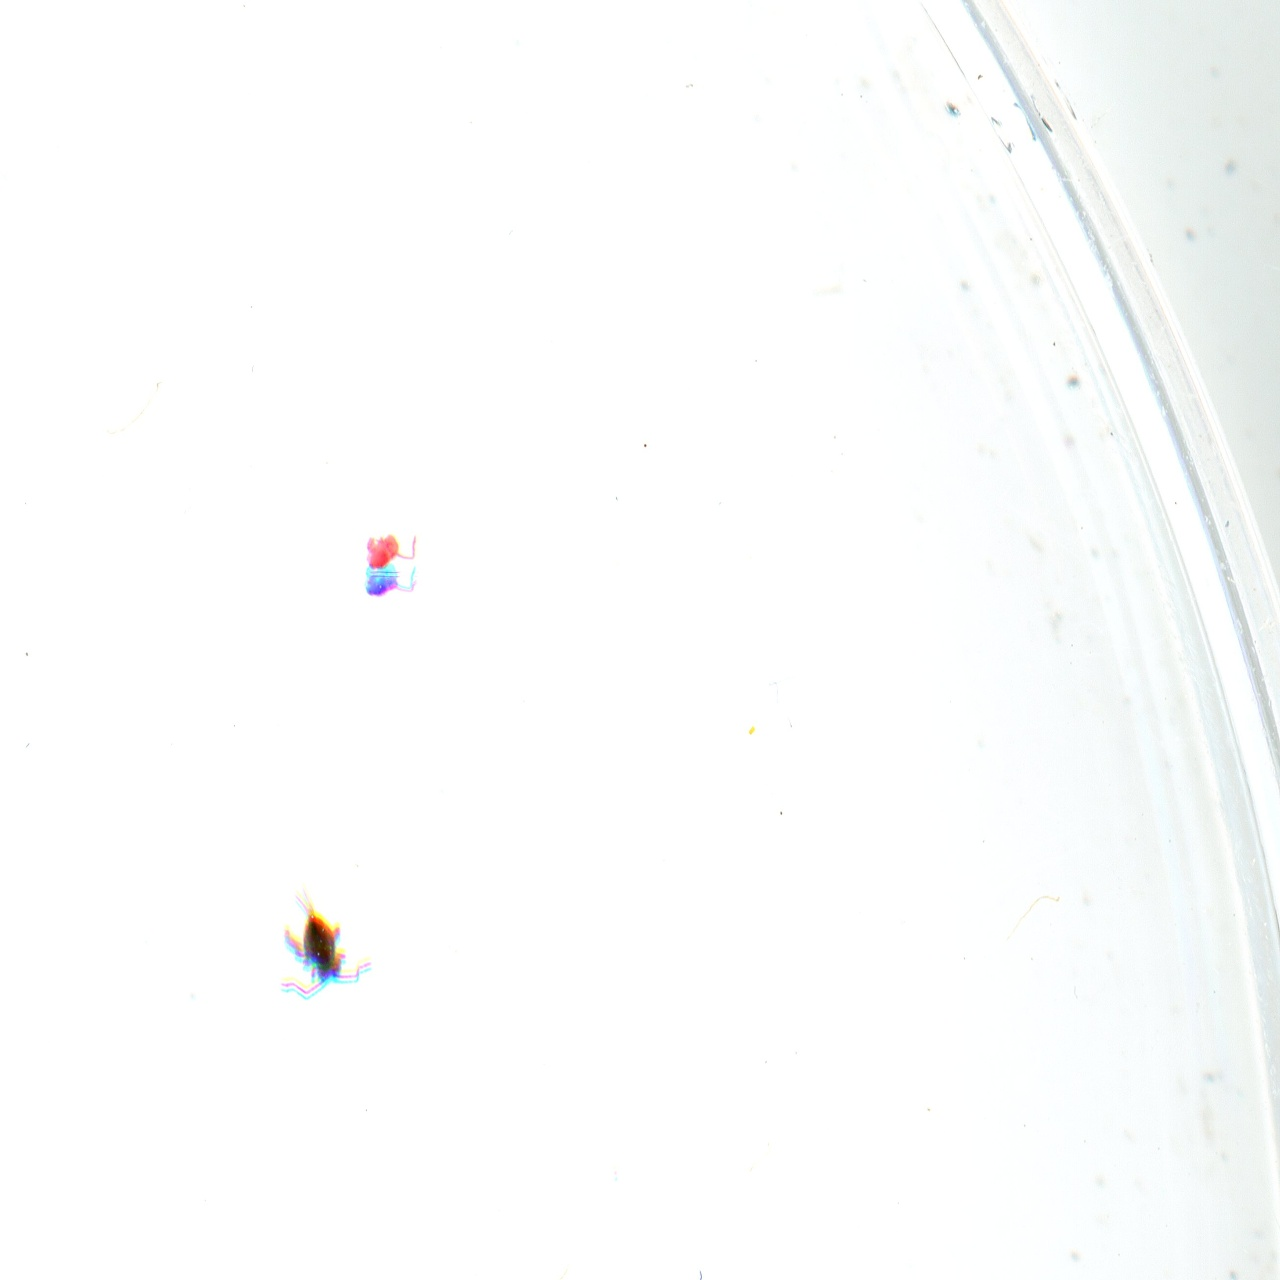arthropod: (248, 869, 383, 1013), (361, 530, 421, 600)
